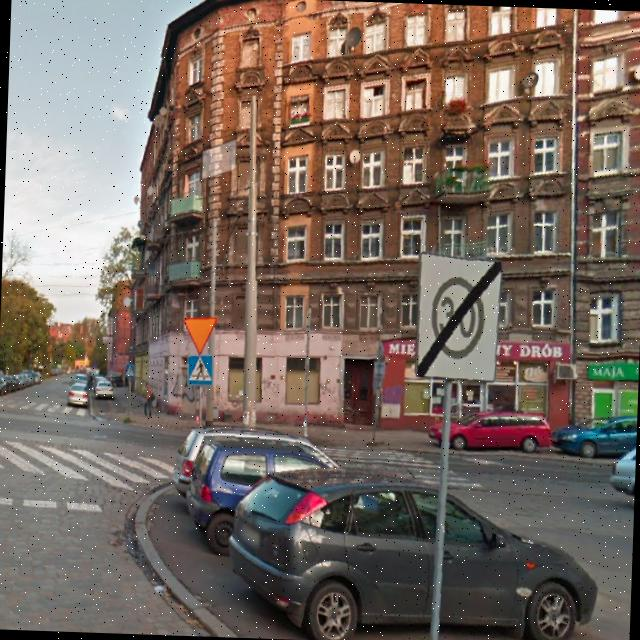Przejscie dla pieszych: (188, 354, 210, 384)
Ustap pierwszenstwa: (182, 315, 214, 354)
